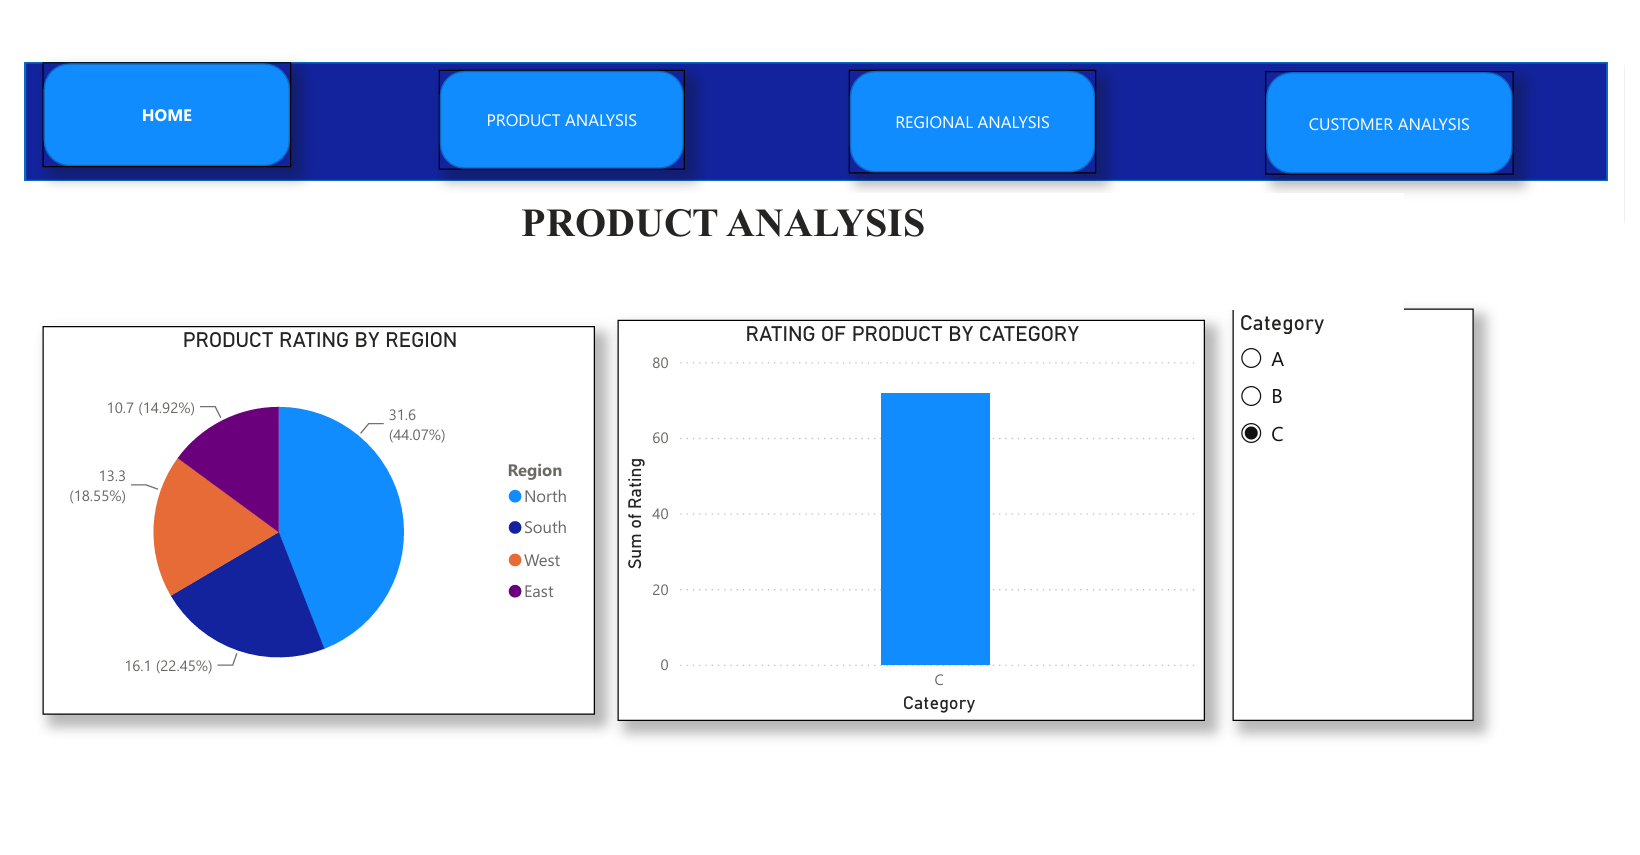

This screenshot's page, from the dashboard's own definition file:
{"tool":"powerbi","page":{"name":"Page 2","canvas":[1280,720],"ordinal":1},"visuals":[{"type":"shape","box":[0,32.8,1265.7,95.5],"z":0},{"type":"shape","box":[14.3,32.9,198.6,84.3],"z":1000},{"type":"shape","box":[330.8,38.8,197.2,79.7],"z":2000},{"type":"shape","box":[659.4,38.8,197.2,83],"z":3000},{"type":"shape","box":[992.3,39.9,198.2,83],"z":4000},{"type":"pieChart","title":"PRODUCT RATING BY REGION","fields":{"Category":["clinic.Region"],"Y":["Sum(clinic.Rating)"],"Series":["clinic.Product/Service"]},"box":[13.7,244.1,442,310.6],"z":5000},{"type":"lineClusteredColumnComboChart","title":"RATING OF PRODUCT BY CATEGORY","fields":{"Y":["Sum(clinic.Rating)"],"Category":["clinic.Category"]},"box":[474.5,238.9,469.3,320.9],"z":6000},{"type":"listSlicer","fields":{"Values":["clinic.Category"]},"box":[966,230.4,192.9,329.4],"z":7000},{"type":"textbox","box":[13.8,137.5,1089.1,93.5],"z":8000}]}

Visuals, with their boxes on the page's 1280x720 design canvas (x1, y1, x2, y2). These are canvas units, not pixel positions in the 1640x855 screenshot, which may show the page scaled, cropped or inside an application window:
shape: <region>0, 33, 1266, 128</region>
shape: <region>14, 33, 213, 117</region>
shape: <region>331, 39, 528, 118</region>
shape: <region>659, 39, 857, 122</region>
shape: <region>992, 40, 1190, 123</region>
"PRODUCT RATING BY REGION" pieChart: <region>14, 244, 456, 555</region>
"RATING OF PRODUCT BY CATEGORY" lineClusteredColumnComboChart: <region>474, 239, 944, 560</region>
listSlicer - clinic.Category: <region>966, 230, 1159, 560</region>
textbox: <region>14, 138, 1103, 231</region>
